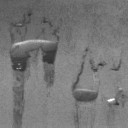slag inclusion: (8, 12, 60, 126), (71, 48, 104, 103), (110, 59, 122, 71), (109, 99, 120, 107), (73, 114, 80, 125), (119, 90, 125, 98)
